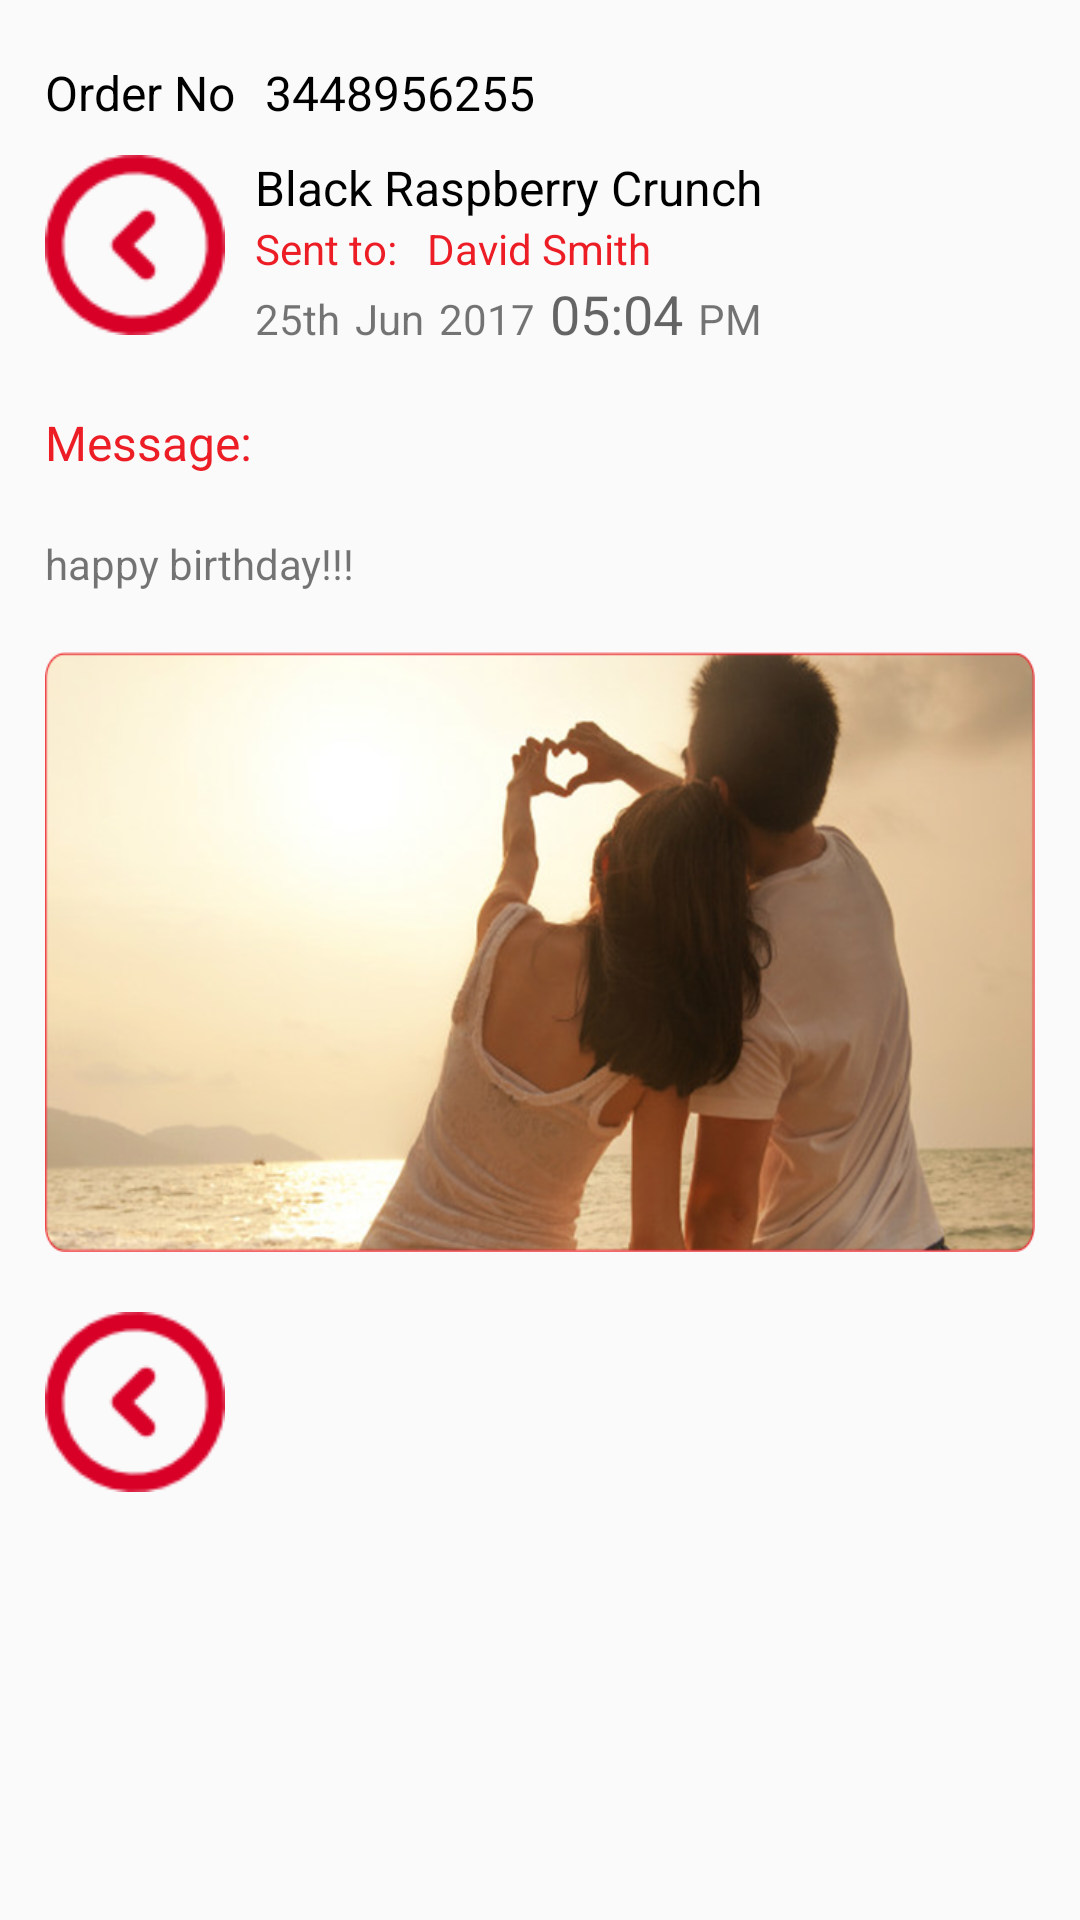

Screen size 1080px x 1920px. Icon name, then its center in pixels as (x,y):
circle arrow: (135,245), (135,1402)
